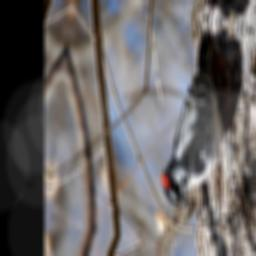Woodpecker: (155, 22, 238, 221)
